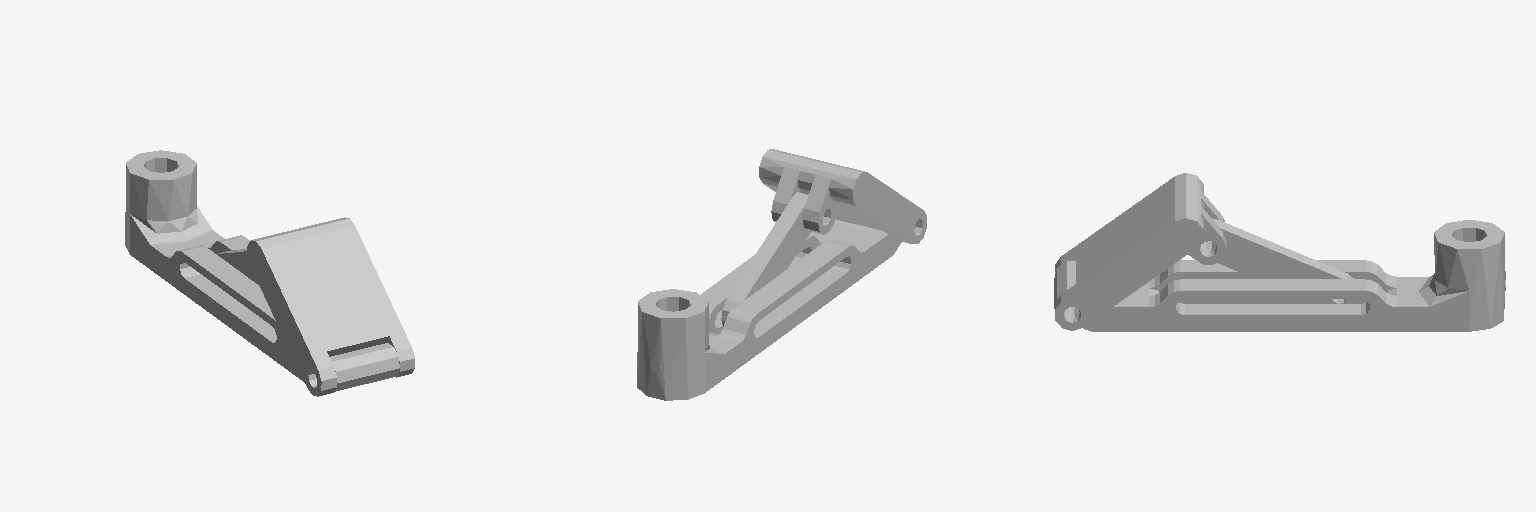
Rendered from assembly_camera_mount_manual.obj.
The picture shows the model from 3 angles: view 1: azimuth 30°, elevation 25°; view 2: azimuth 150°, elevation 25°; view 3: azimuth 270°, elevation 25°; orthographic projection.
Parts seen in each view (by area): view 1: Solid1, Solid1:1, Solid1:2; view 2: Solid1, Solid1:1, Solid1:2; view 3: Solid1, Solid1:1, Solid1:2.
Boxes of the visible parts, x1=… form: Solid1: x1=125, y1=150, x2=399, y2=391; Solid1:1: x1=247, y1=217, x2=414, y2=396; Solid1:2: x1=217, y1=249, x2=258, y2=284; Solid1: x1=637, y1=219, x2=901, y2=400; Solid1:1: x1=759, y1=149, x2=926, y2=243; Solid1:2: x1=721, y1=192, x2=810, y2=326; Solid1: x1=1054, y1=220, x2=1505, y2=331; Solid1:1: x1=1055, y1=173, x2=1226, y2=330; Solid1:2: x1=1201, y1=219, x2=1356, y2=303.
Bounding box in the file's own units: 24 × 29.61 × 99.99.